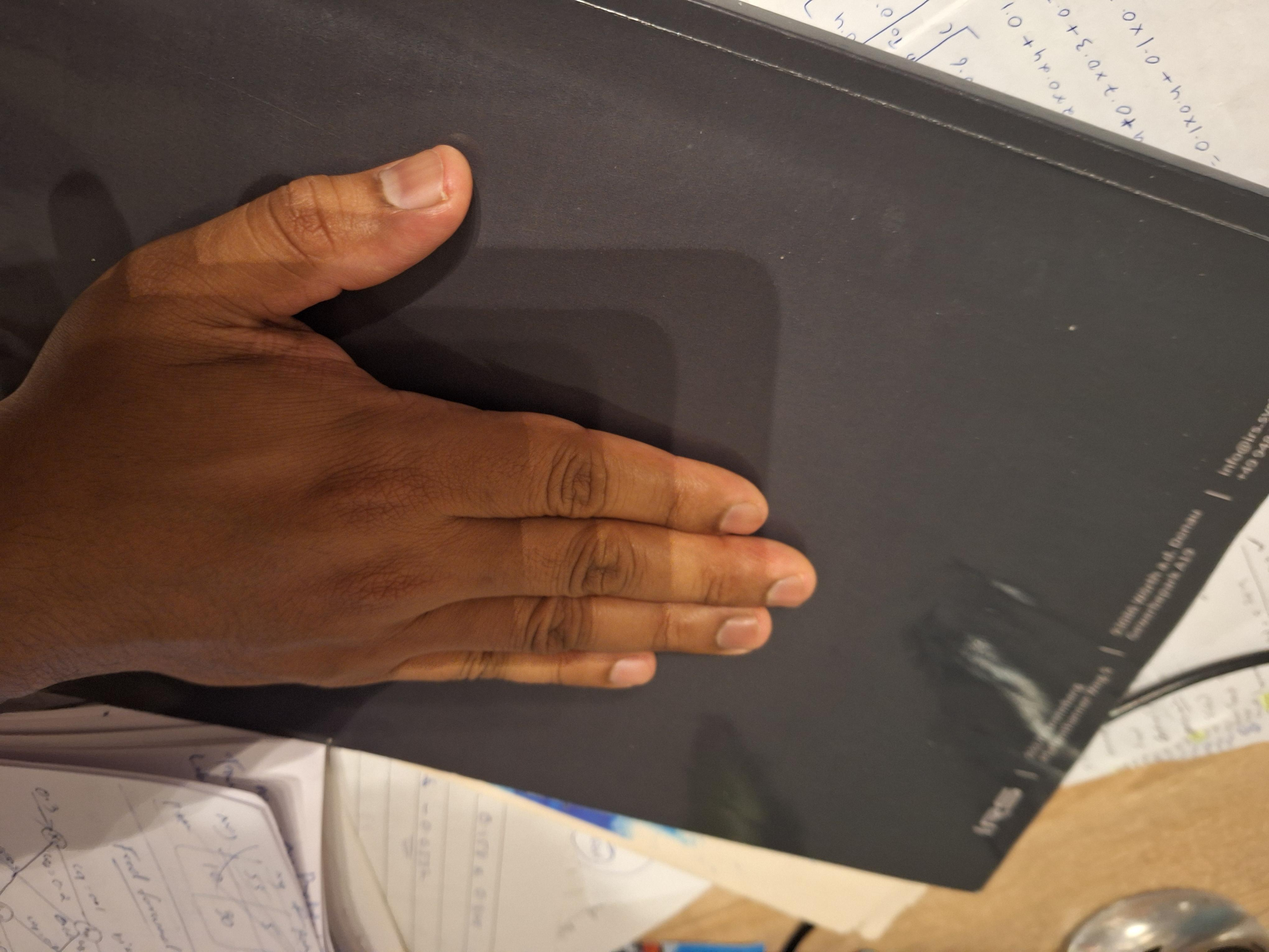Fingernail: (378, 149, 447, 210), (717, 616, 761, 650), (721, 502, 762, 533), (610, 656, 651, 687), (768, 574, 805, 607)
